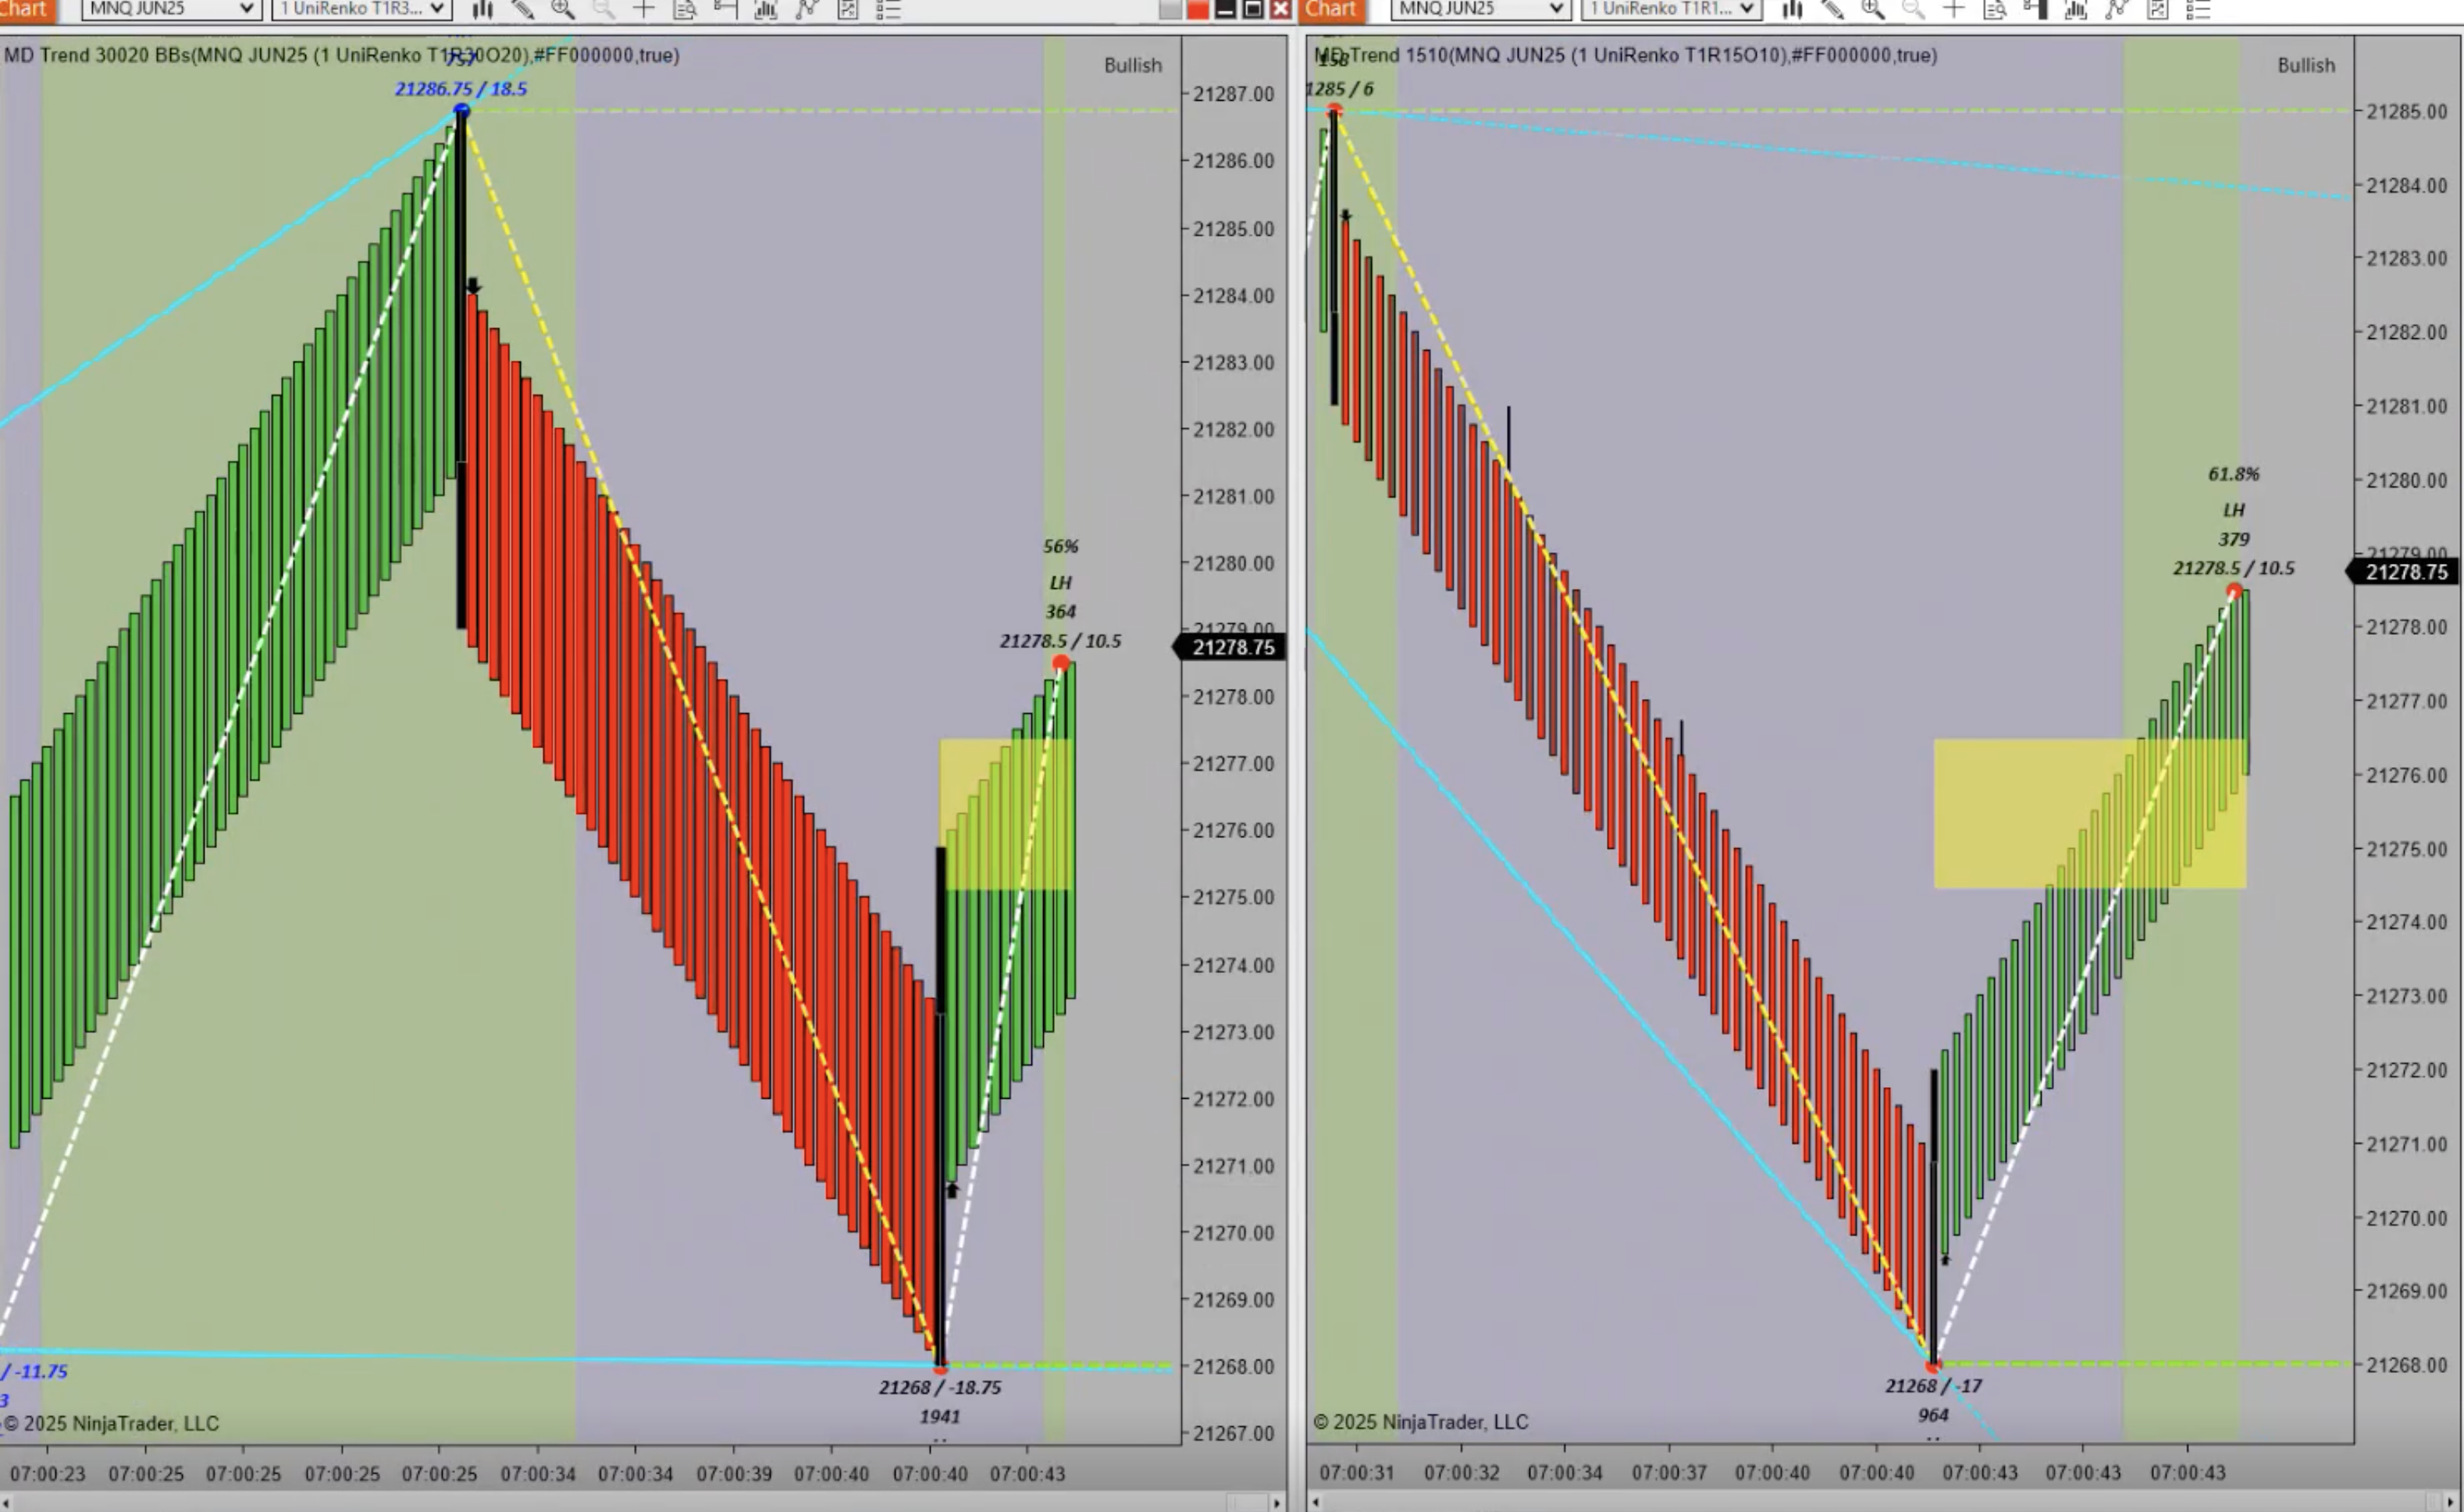candle: (456, 106, 475, 627), (938, 847, 949, 1371), (1929, 1065, 1943, 1364), (1332, 106, 1343, 415)
